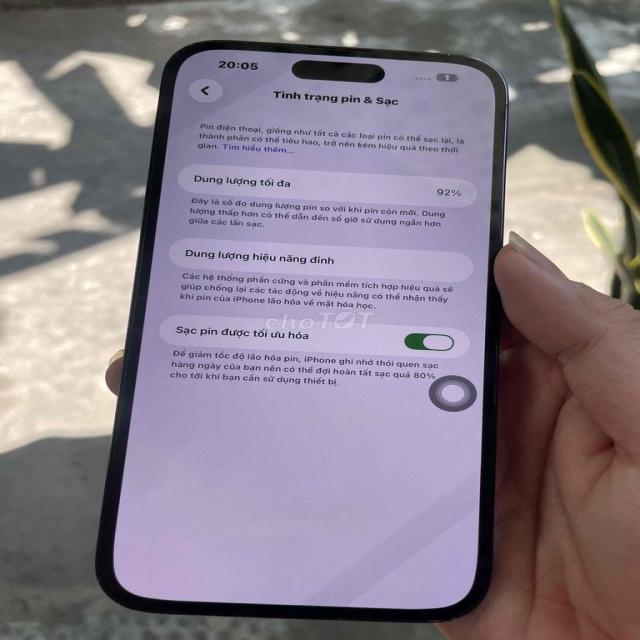gen_14: (96, 29, 502, 628)
